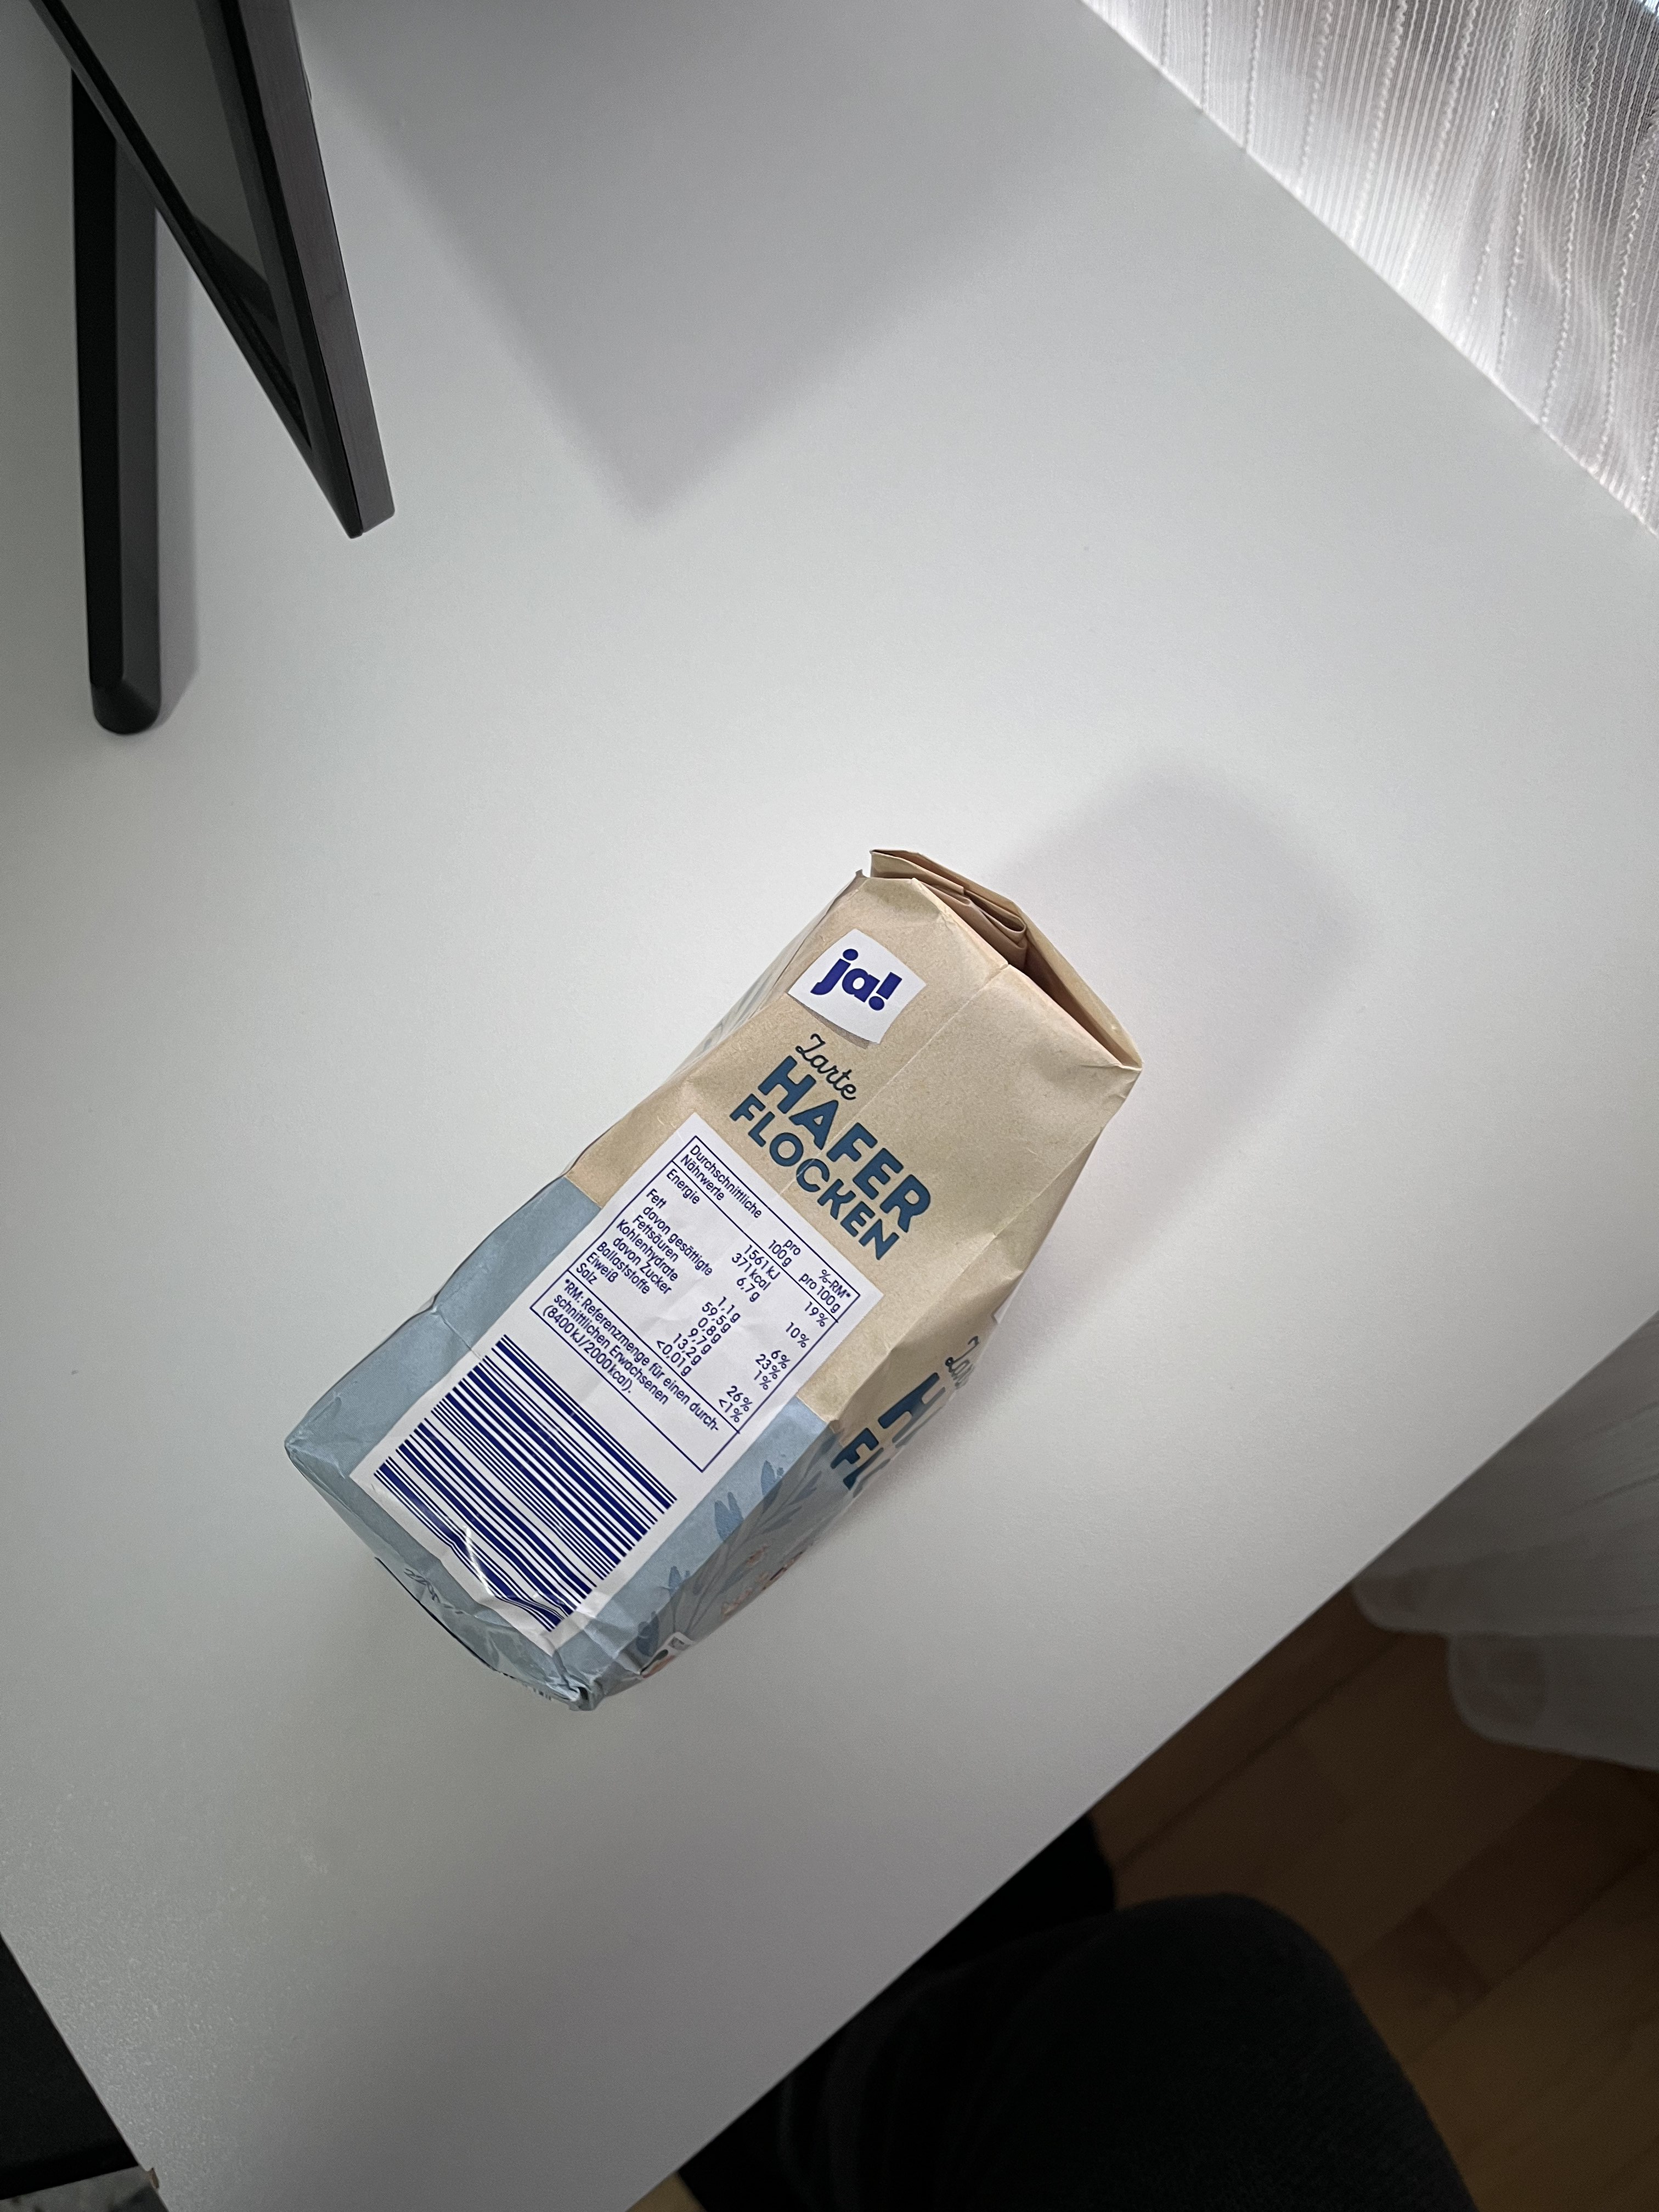haferflocken_ja: (282, 845, 1141, 1709)
